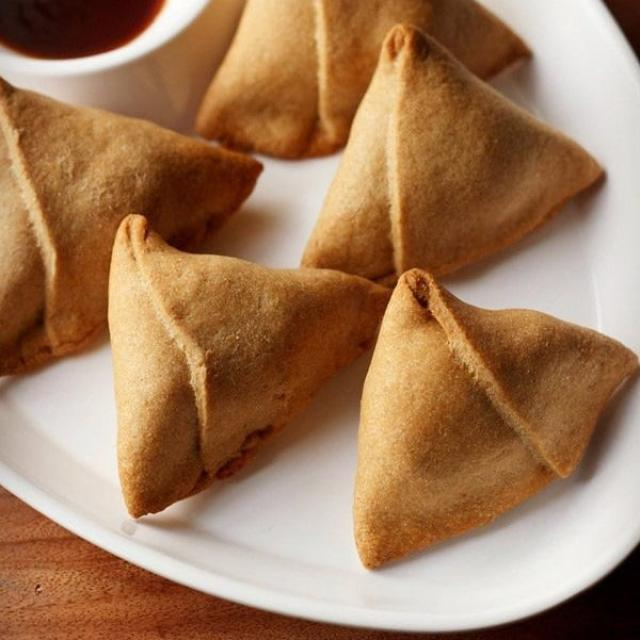SAMOSA: (354, 269, 639, 567), (109, 215, 390, 516), (0, 79, 262, 375), (301, 24, 603, 280), (197, 0, 529, 159)
